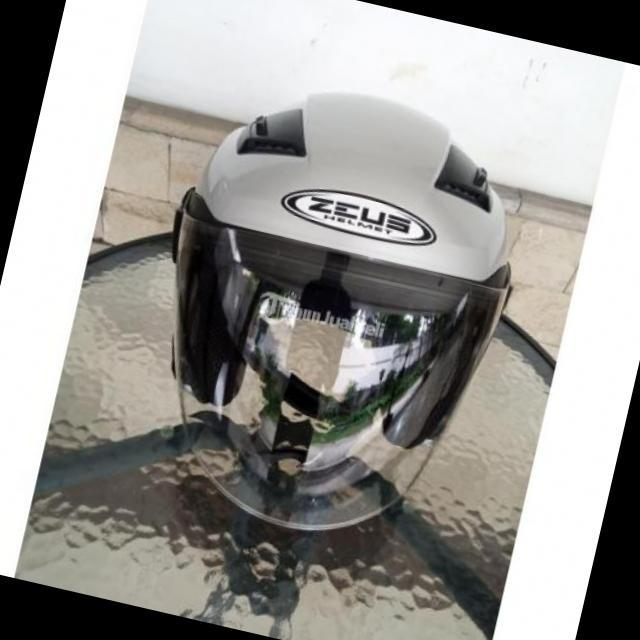Helm: (109, 54, 550, 572)
